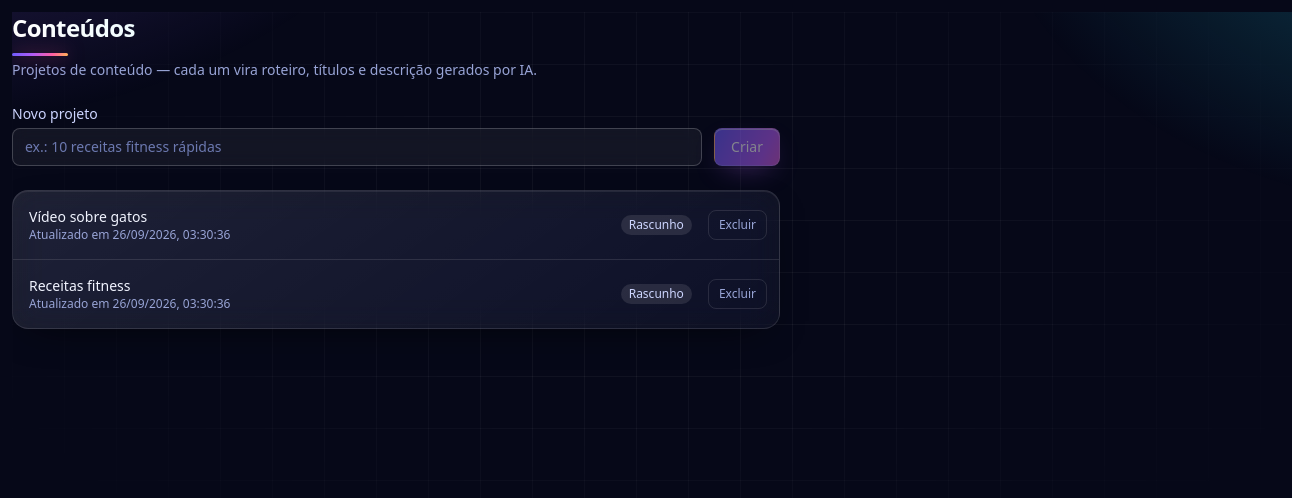
Test case: ContentProjectsPage › excluir conteúdo › mostra a explicação do servidor (já publicado) e mantém o conteúdo na lista
This screenshot has width=1292, height=498.
Click the button with aria-label "Excluir conteúdo Vídeo sobre gatos" at (737, 225), box [708,210,767,240]
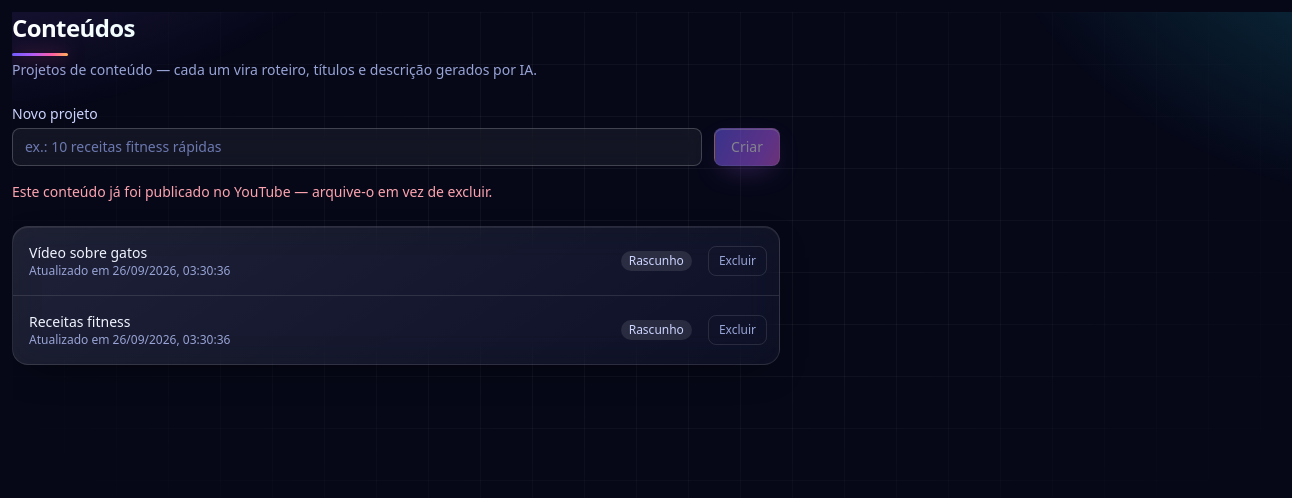
Expected: the text "Vídeo sobre gatos" is shown, [29,243,147,262]
Result: the text "arquive-o em vez de excluir" is shown at [12,182,492,201]
